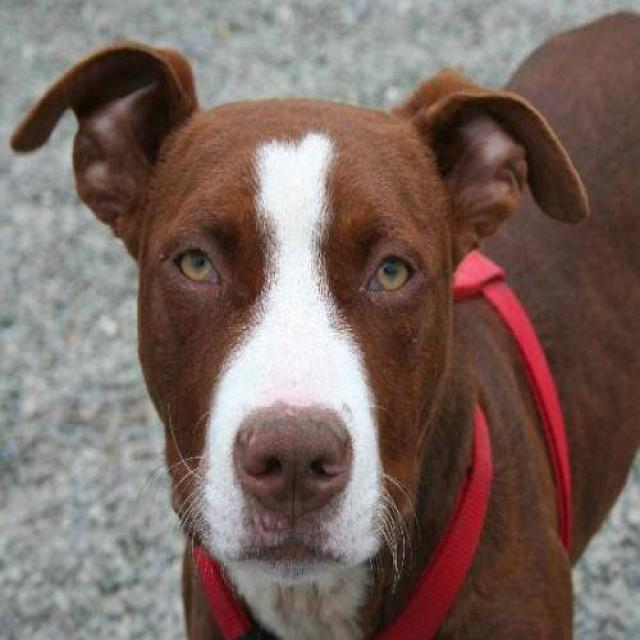dog: (9, 8, 639, 638)
